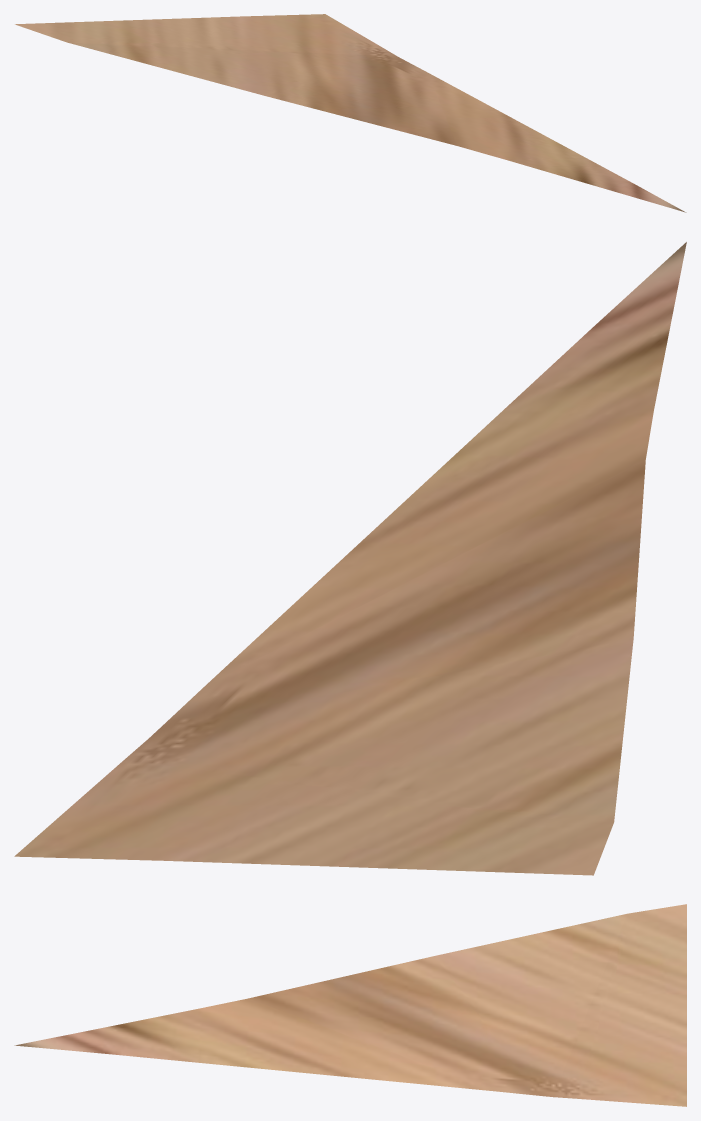
3 views of the same model, one above another, from view 1: azimuth 30°, elevation 25°; view 2: azimuth 150°, elevation 25°; view 3: azimuth 270°, elevation 25° (orthographic). The views are drawn at different scales.
Size of the model in its own units: 0.4467 by 0.0903 by 0.8983.
1 material, 1 textured.
